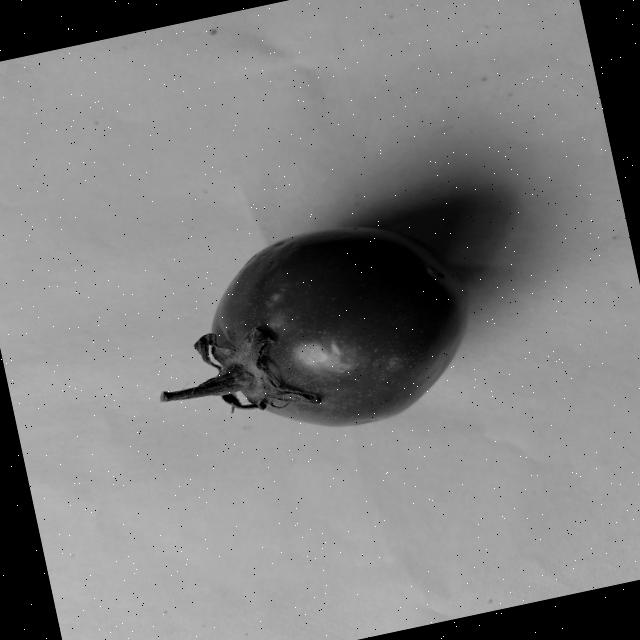Ripe: (181, 198, 490, 456)
